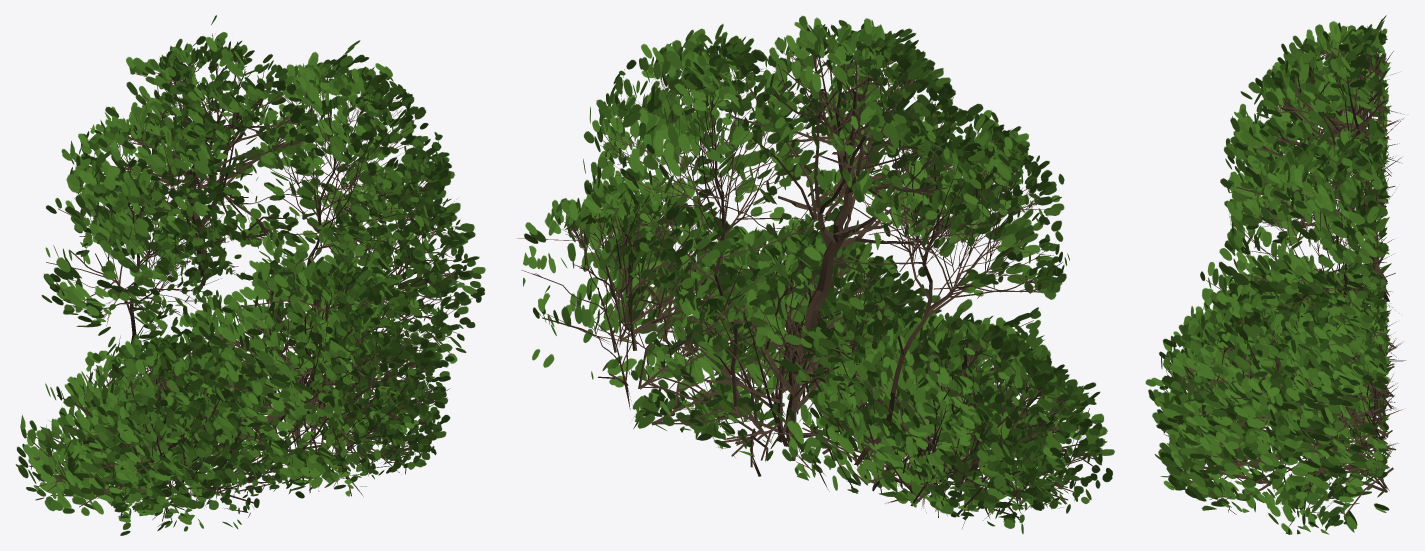
3 renders of one model, left to right at view 1: azimuth 30°, elevation 25°; view 2: azimuth 150°, elevation 25°; view 3: azimuth 270°, elevation 25°, orthographic. The views are drawn at different scales.
Visible parts, largest first — view 1: oak 01.001_trunk_Mat.001_0.418; view 2: oak 01.001_trunk_Mat.001_0.418; view 3: oak 01.001_trunk_Mat.001_0.418.
Part boxes in pixels (bbox=[...]): oak 01.001_trunk_Mat.001_0.418: bbox=[15, 15, 485, 535]; oak 01.001_trunk_Mat.001_0.418: bbox=[516, 15, 1114, 533]; oak 01.001_trunk_Mat.001_0.418: bbox=[1145, 15, 1405, 534].
Bounding box in the file's own units: 5.67 × 4.93 × 2.75.
Materials: 2 (1 with a texture image).
